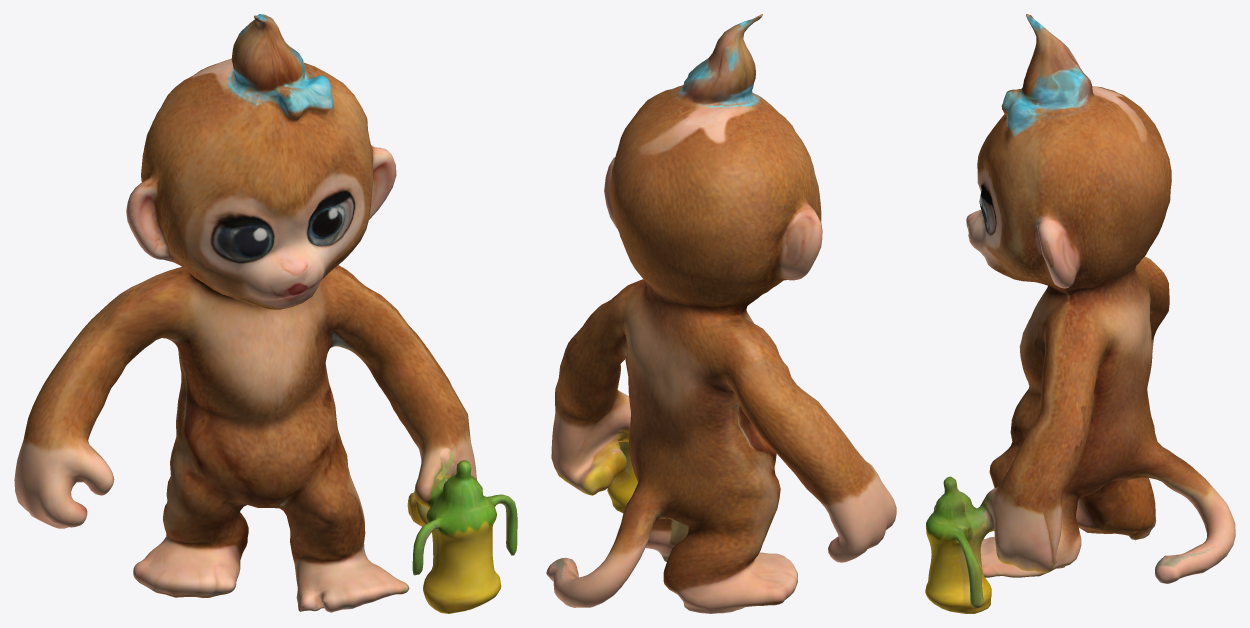
Rendered from Baby_Monkey_Toy_0126145746_texture.glb.
3 renders of one model, left to right at view 1: azimuth 30°, elevation 25°; view 2: azimuth 150°, elevation 25°; view 3: azimuth 270°, elevation 25°, orthographic. The views are drawn at different scales.
Size of the model in its own units: 1.44 by 2 by 1.08.
1 material, 1 textured.
